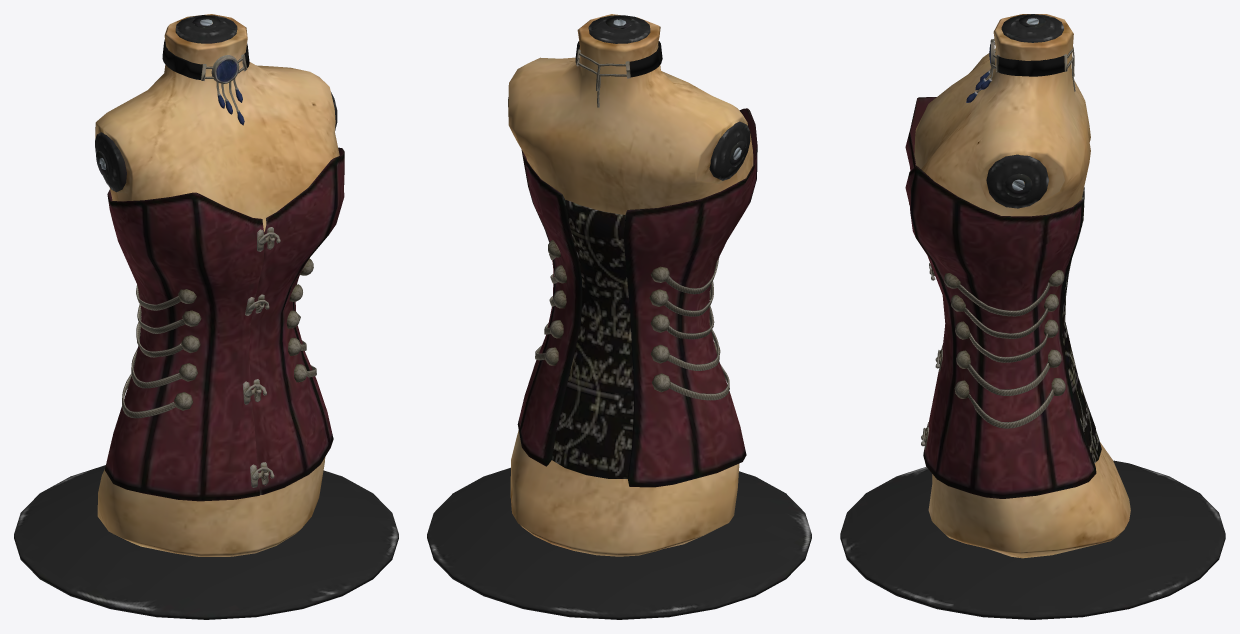
File: korsett.glb
3 views of the same model, side by side, from view 1: azimuth 30°, elevation 25°; view 2: azimuth 150°, elevation 25°; view 3: azimuth 270°, elevation 25° (orthographic).
Visible parts, largest first — view 1: Corset; view 2: Corset; view 3: Corset.
Part boxes in pixels (bbox=[...]): Corset: bbox=[14, 14, 398, 619]; Corset: bbox=[427, 14, 811, 619]; Corset: bbox=[840, 14, 1225, 619].
Bounding box in the file's own units: 0.039 × 0.0578 × 0.039.
1 material, 1 textured.
